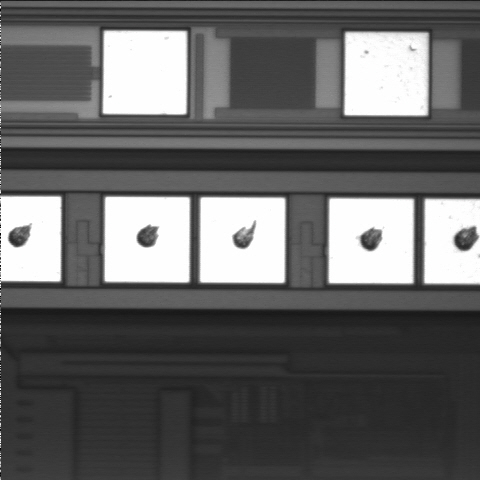pad: (200, 197, 285, 283), (105, 197, 190, 282), (329, 199, 414, 283), (103, 31, 187, 114), (345, 33, 428, 115)
